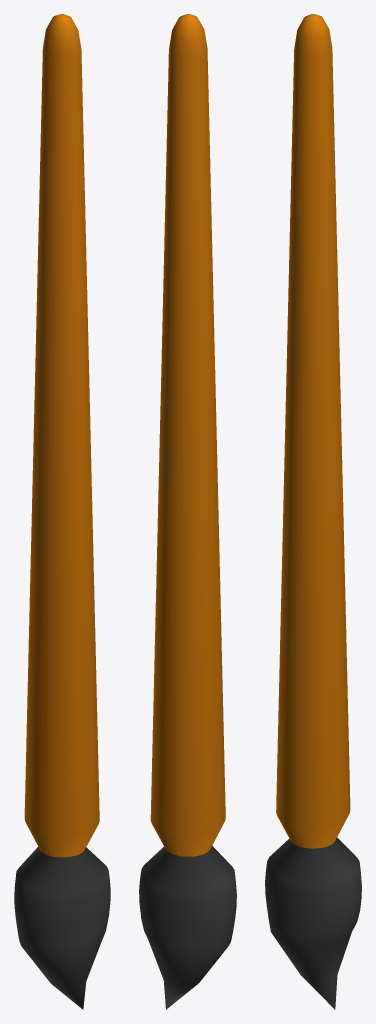
The model's file is small_paintbrush.glb.
The picture shows the model from 3 angles, left to right: view 1: azimuth 30°, elevation 25°; view 2: azimuth 150°, elevation 25°; view 3: azimuth 330°, elevation 25°; orthographic projection.
Parts seen in each view (by area): view 1: Brush_0; view 2: Brush_0; view 3: Brush_0.
Boxes of the visible parts, left/top/right/bottom form: Brush_0: left=14, top=14, right=110, bottom=1009; Brush_0: left=139, top=14, right=236, bottom=1009; Brush_0: left=265, top=14, right=361, bottom=1009.
Bounding box in the file's own units: 1.24 × 13.9 × 1.14.
